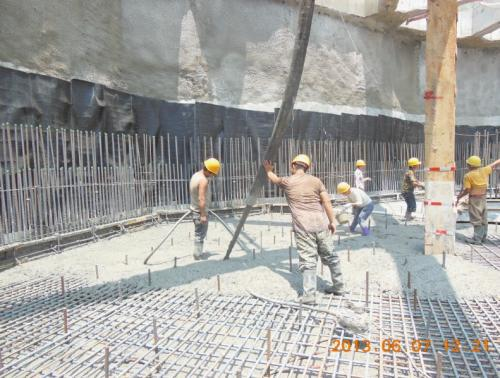helmet: (198, 155, 224, 180), (289, 153, 314, 176), (463, 153, 485, 172), (336, 180, 355, 197), (406, 154, 423, 173), (353, 159, 368, 173)
